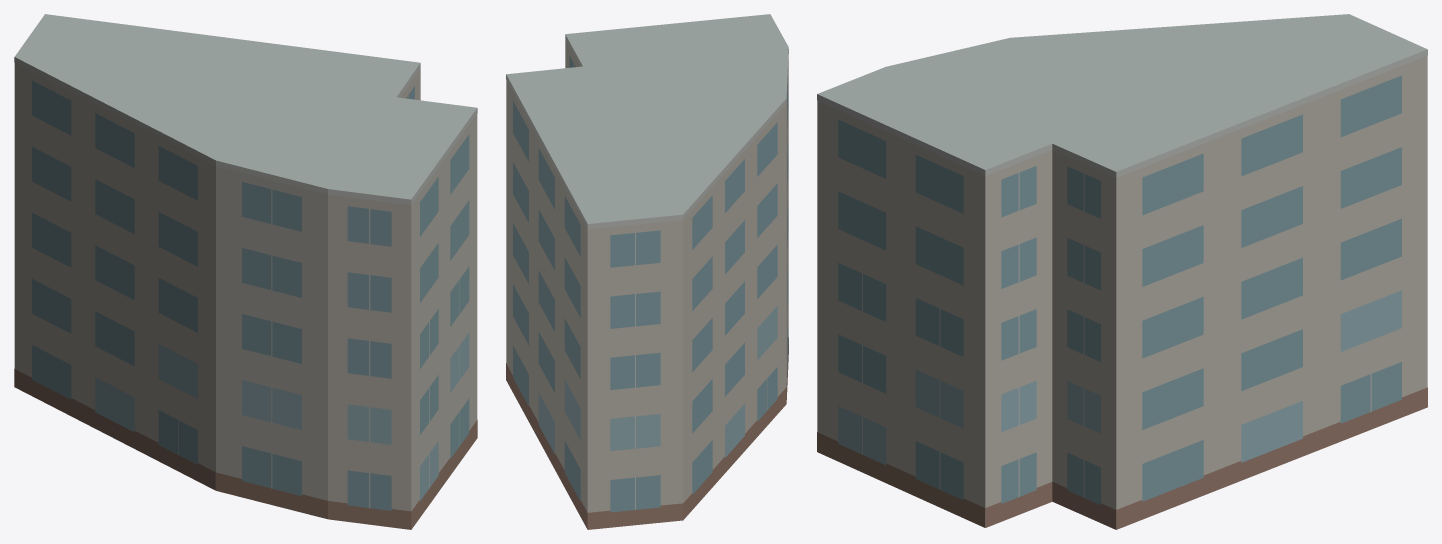
File: survey-upis-32667205.glb
3 renders of one model, left to right at view 1: azimuth 30°, elevation 25°; view 2: azimuth 150°, elevation 25°; view 3: azimuth 270°, elevation 25°, orthographic. The views are drawn at different scales.
Parts seen in each view (by area): view 1: survey-upis-32667205.tmp; view 2: survey-upis-32667205.tmp; view 3: survey-upis-32667205.tmp.
Boxes of the visible parts, <box> form: survey-upis-32667205.tmp: <box>14,14,477,529</box>; survey-upis-32667205.tmp: <box>506,14,788,529</box>; survey-upis-32667205.tmp: <box>817,14,1427,529</box>.
Bounding box in the file's own units: 13.35 × 14.1 × 21.81.
